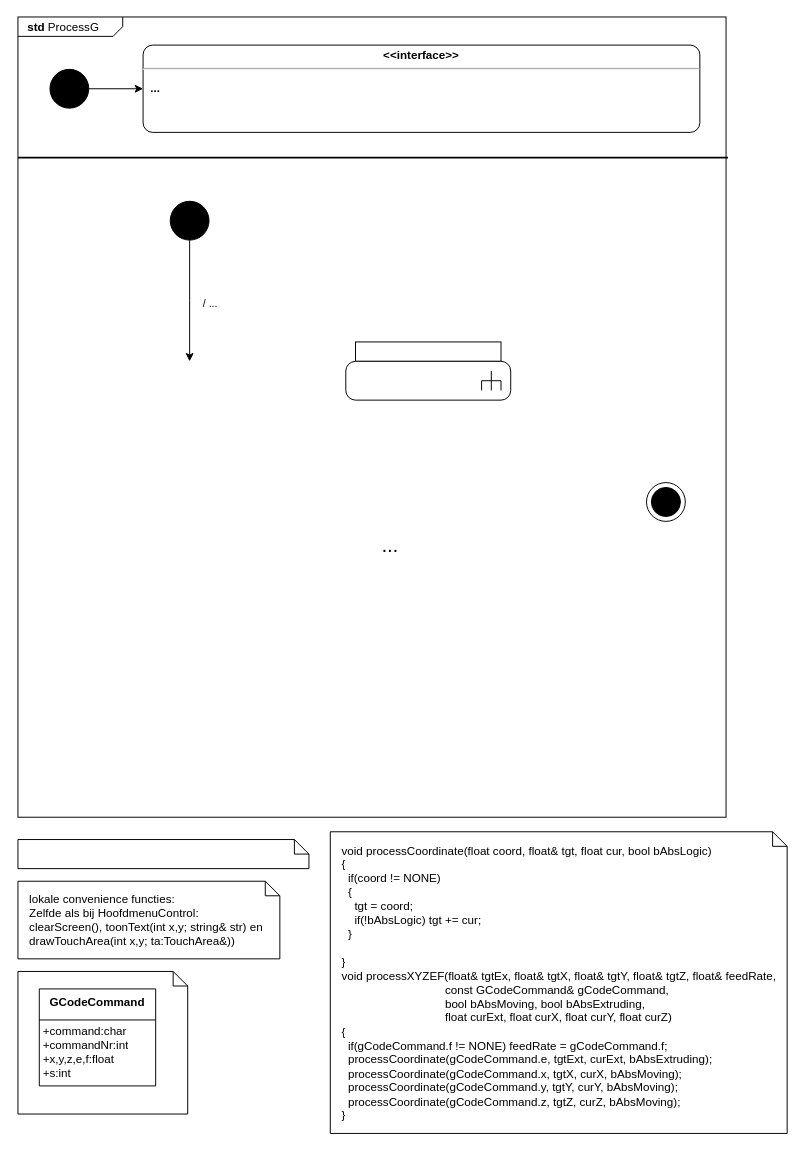
This 804x1150 diagram has some shape labels left out. Each missing label, with the centre of its shape:
"ProcessGNot1" belongs at point 428,351.
"taQueue is a queue of pointers to TochArea objects." belongs at point 163,854.
